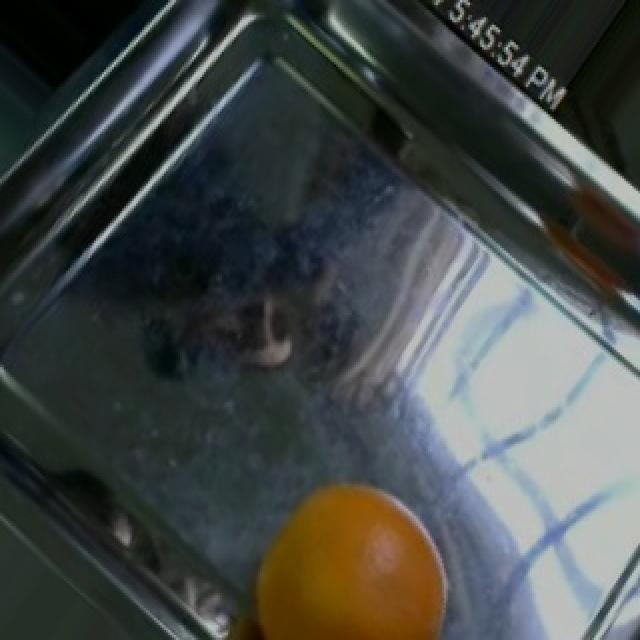Fruit: (238, 466, 466, 640)
